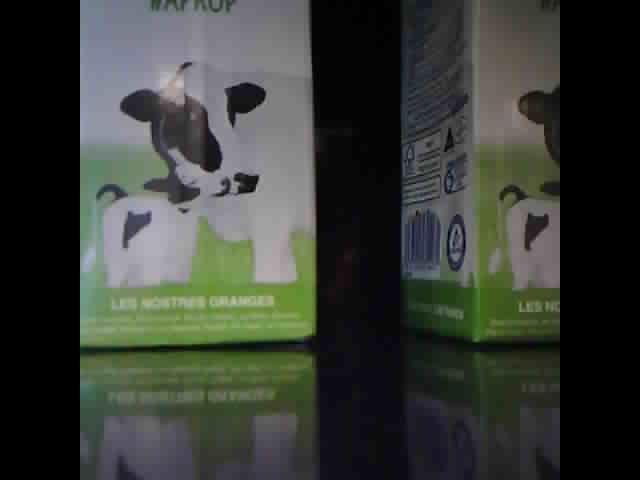leche: (82, 3, 314, 347), (399, 5, 559, 342)
